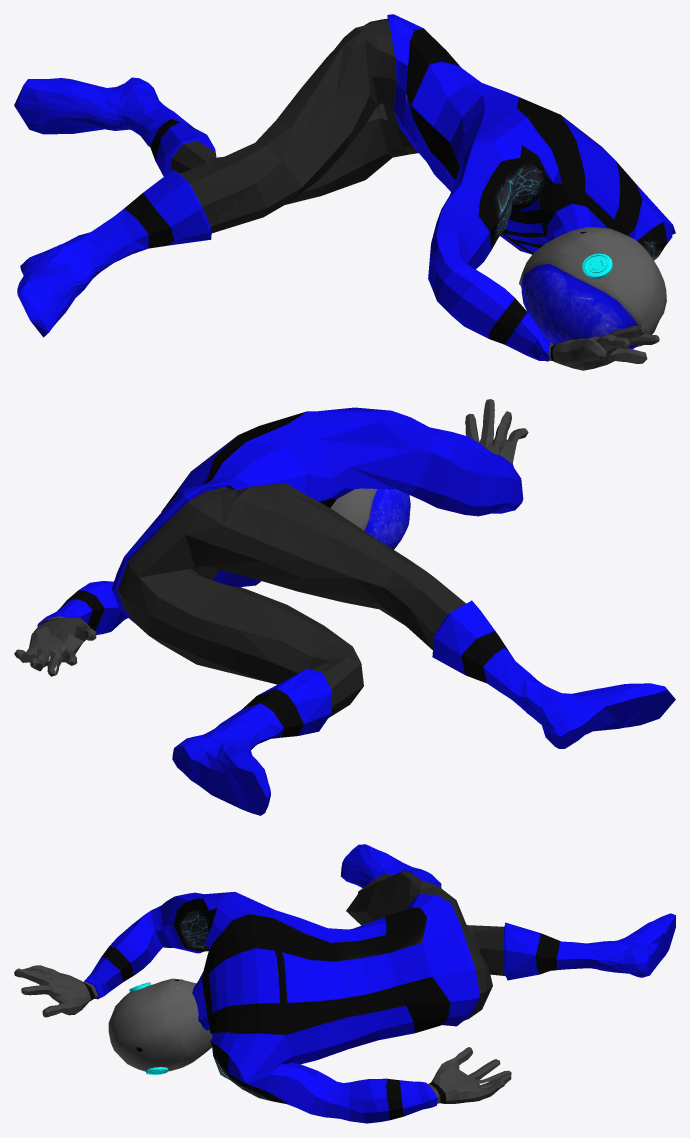
3 views of the same model, one above another, from view 1: azimuth 30°, elevation 25°; view 2: azimuth 150°, elevation 25°; view 3: azimuth 270°, elevation 25° (orthographic). The views are drawn at different scales.
Visible parts, largest first — view 1: Piernas1, Brazos2, Cabeza1; view 2: Piernas1, Brazos2, Cabeza1; view 3: Brazos2, Piernas1, Cabeza1.
Boxes of the visible parts, left/top/right/bottom form: Piernas1: left=14, top=18, right=418, bottom=337; Brazos2: left=387, top=14, right=675, bottom=370; Cabeza1: left=519, top=227, right=666, bottom=349; Piernas1: left=117, top=483, right=675, bottom=815; Brazos2: left=14, top=399, right=528, bottom=676; Cabeza1: left=330, top=488, right=410, bottom=549; Brazos2: left=14, top=892, right=511, bottom=1123; Piernas1: left=340, top=844, right=675, bottom=1020; Cabeza1: left=108, top=978, right=212, bottom=1074.
Bounding box in the file's own units: 129 × 45.32 × 162.
